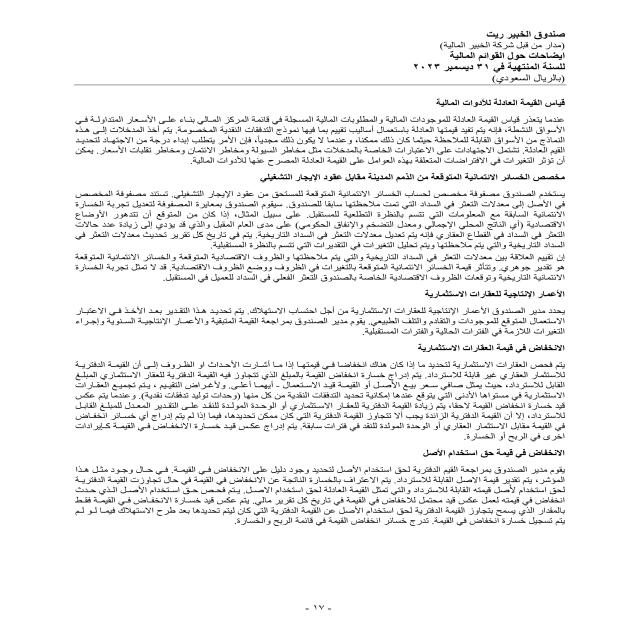notes: (436, 51, 565, 60)
text: (51, 90, 582, 552)
